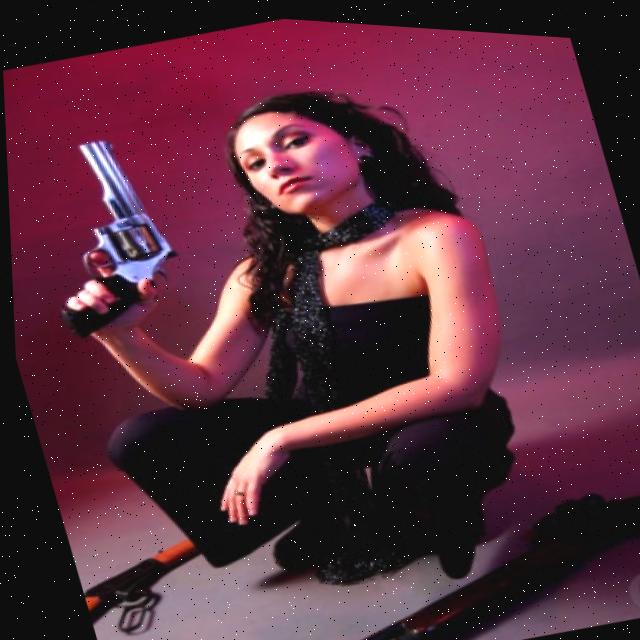firearm: (205, 437, 640, 640), (67, 527, 215, 640)
pistol: (10, 123, 194, 344)
